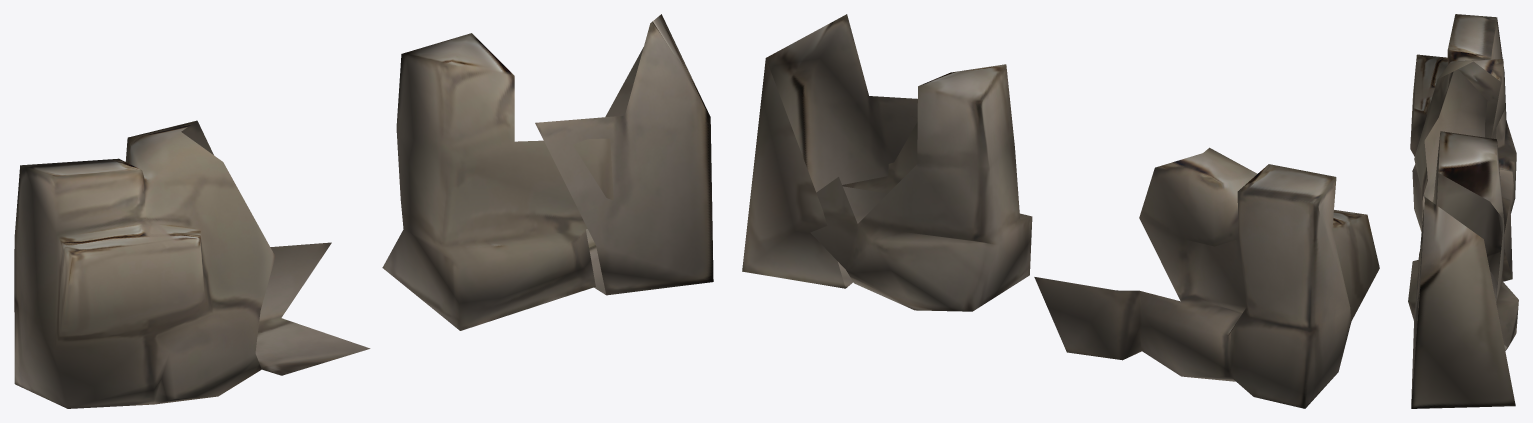
File: Walls.glb
The picture shows the model from 3 angles, left to right: view 1: azimuth 30°, elevation 25°; view 2: azimuth 150°, elevation 25°; view 3: azimuth 270°, elevation 25°; orthographic projection. The views are drawn at different scales.
Parts seen in each view (by area): view 1: stone_wall; view 2: stone_wall; view 3: stone_wall.
Part boxes in pixels (bbox=[...]): stone_wall: bbox=[14, 14, 713, 408]; stone_wall: bbox=[742, 14, 1379, 408]; stone_wall: bbox=[1408, 14, 1518, 408].
Size of the model in its own units: 2.86 by 1.14 by 0.5783.
1 material, 1 textured.
